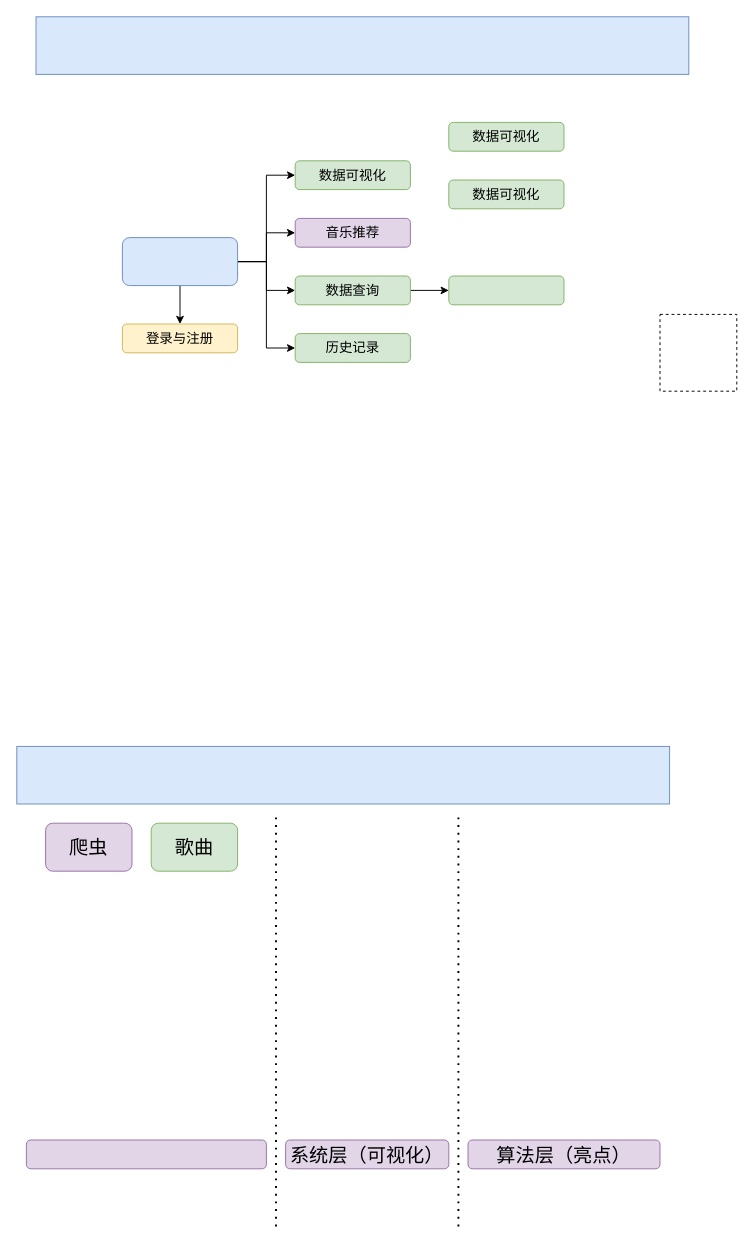
This 754x1245 diagram has some shape labels left out. The box of each missing label's shape, as (x1, y1, x2, y2) in pixels:
分页/模糊查询: (448, 275, 564, 305)
功能模块图: (35, 16, 689, 74)
数据层: (25, 1139, 266, 1169)
音乐推荐可视化: (121, 237, 238, 286)
音乐类思路: (16, 745, 670, 804)
